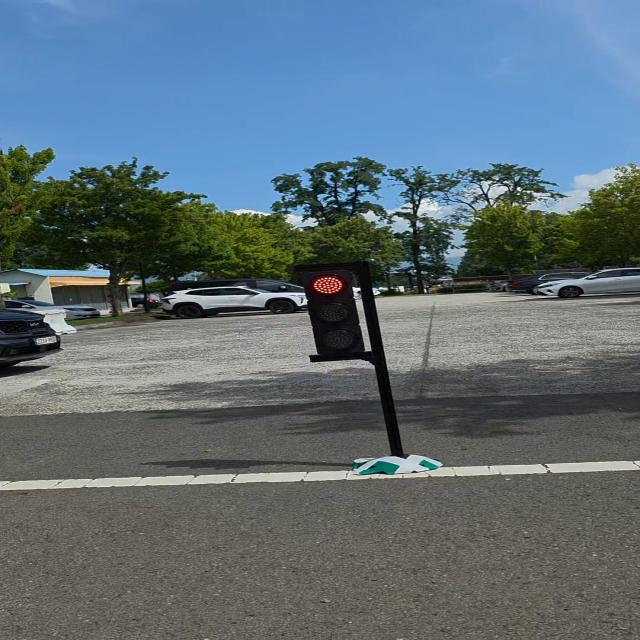red: (278, 262, 394, 364)
